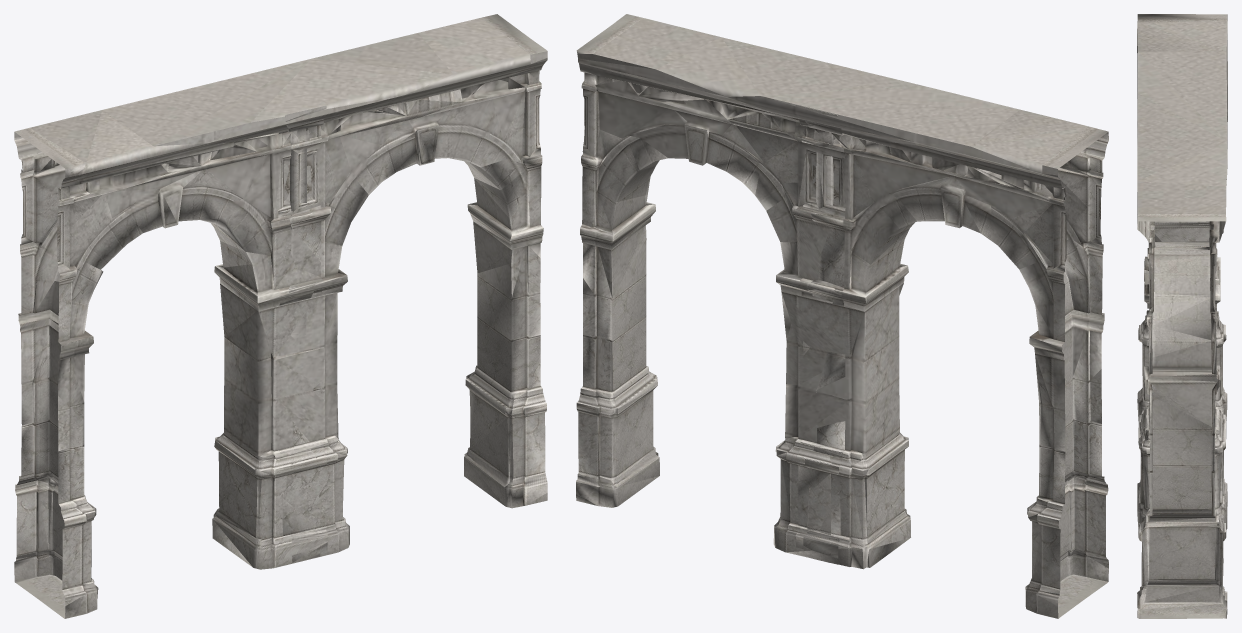
The model's file is marble-arch.glb.
The picture shows the model from 3 angles, left to right: view 1: azimuth 30°, elevation 25°; view 2: azimuth 150°, elevation 25°; view 3: azimuth 270°, elevation 25°; orthographic projection. The views are drawn at different scales.
Parts seen in each view (by area): view 1: mid, left, right; view 2: mid, right, left; view 3: mid, right, left.
Boxes of the visible parts, box(x1,y1,x2,y2) form: mid: box(14, 14, 547, 618); left: box(286, 104, 327, 562); right: box(278, 102, 326, 564); mid: box(576, 14, 1108, 618); right: box(803, 68, 854, 564); left: box(795, 105, 837, 562); mid: box(1137, 14, 1227, 618); right: box(1137, 112, 1227, 512); left: box(1137, 109, 1227, 515).
Bounding box in the file's own units: 1.62 × 1.44 × 0.2983.
Materials: 1 (1 with a texture image).
